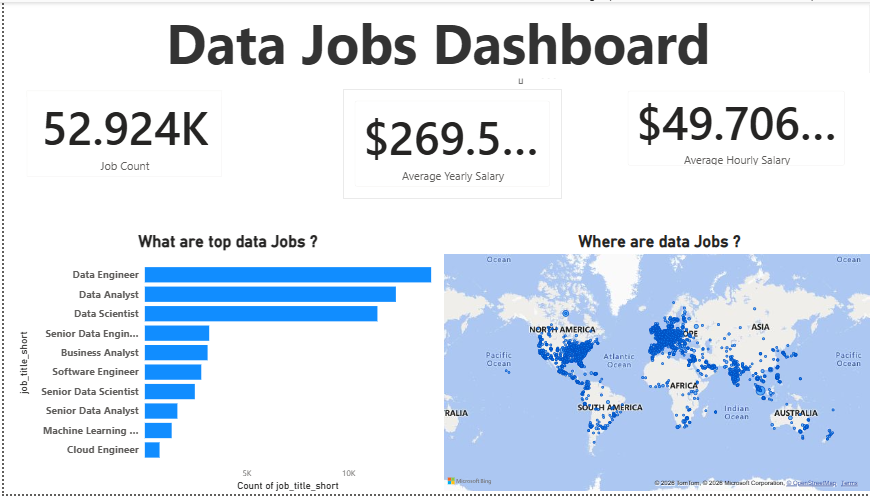

The dashboard page shown, as its layout file describes it:
{"tool":"powerbi","page":{"name":"Data jobs","canvas":[1280,720],"ordinal":0},"visuals":[{"type":"cardVisual","fields":{"Data":["CountNonNull(01-2024.job_title_short)"]},"box":[16,112,320,160],"z":0},{"type":"cardVisual","fields":{"Data":["Sum(01-2024.salary_year_avg)"]},"box":[496,128,320,160],"z":1000},{"type":"cardVisual","fields":{"Data":["Avg(01-2024.salary_hour_avg)"]},"box":[896,112,352,144],"z":2000},{"type":"barChart","title":"What are top  data Jobs  ?","fields":{"Category":["01-2024.job_title_short"],"Y":["CountNonNull(01-2024.job_title_short)"]},"box":[16,336,624,384],"z":3000},{"type":"map","title":"Where are data Jobs ?","fields":{"Category":["01-2024.job_location"],"Size":["CountNonNull(01-2024.job_title_short)"]},"box":[640,336,640,384],"z":4000},{"type":"textbox","box":[0,0,1280,112],"z":5000}]}

Visuals, with their boxes in screenshot pixels (x1, y1, x2, y2), scaled from the page's 1280x720 canvas onto the 870x498 screenshot:
cardVisual - CountNonNull(01-2024.job_title_short): (11, 77, 228, 188)
cardVisual - Sum(01-2024.salary_year_avg): (337, 89, 555, 199)
cardVisual - Avg(01-2024.salary_hour_avg): (609, 77, 848, 177)
"What are top  data Jobs  ?" barChart: (11, 232, 435, 497)
"Where are data Jobs ?" map: (435, 232, 869, 497)
textbox: (0, 0, 869, 77)
